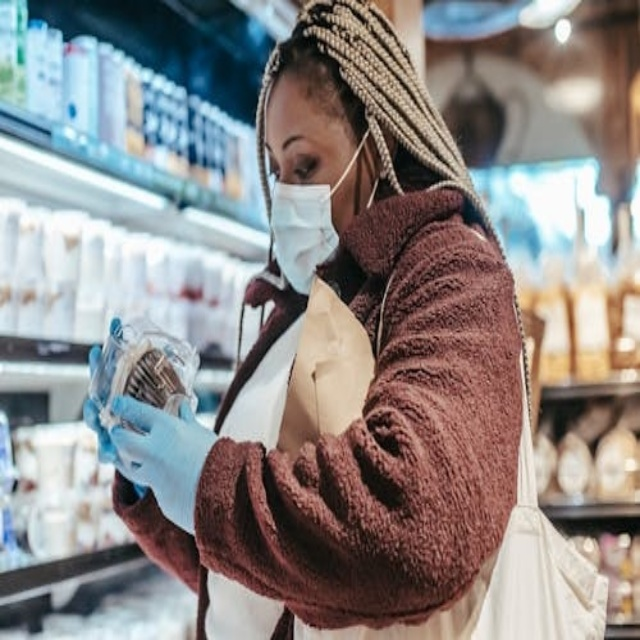Guantes: (106, 395, 217, 537), (83, 322, 130, 468)
Mascara: (268, 132, 363, 295)
Sin_gafas: (261, 125, 330, 185)
